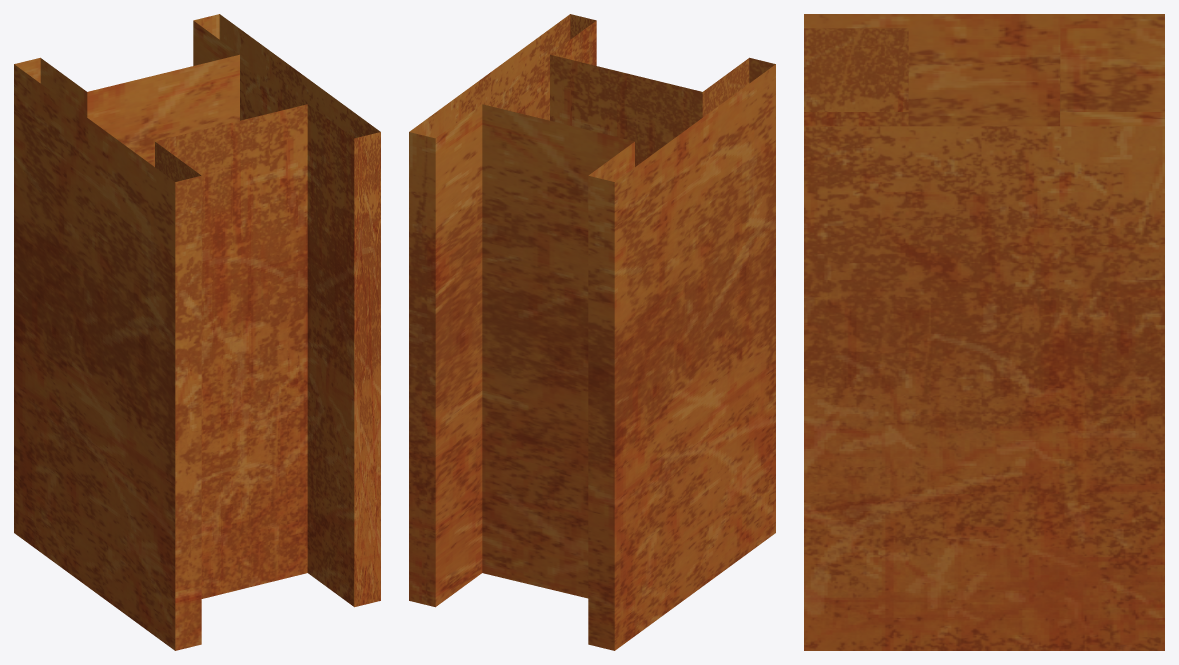
Rendered from Building2_RivetVerticalTop.fbx.
3 renders of one model, left to right at view 1: azimuth 30°, elevation 25°; view 2: azimuth 150°, elevation 25°; view 3: azimuth 270°, elevation 25°, orthographic. The views are drawn at different scales.
Visible parts, largest first — view 1: TopRivet; view 2: TopRivet; view 3: TopRivet.
Boxes of the visible parts, x1,y1,x2,y2 form: TopRivet: (14,14,380,650); TopRivet: (409,14,775,650); TopRivet: (804,14,1164,650).
Bounding box in the file's own units: 57.55 × 125 × 78.14.
